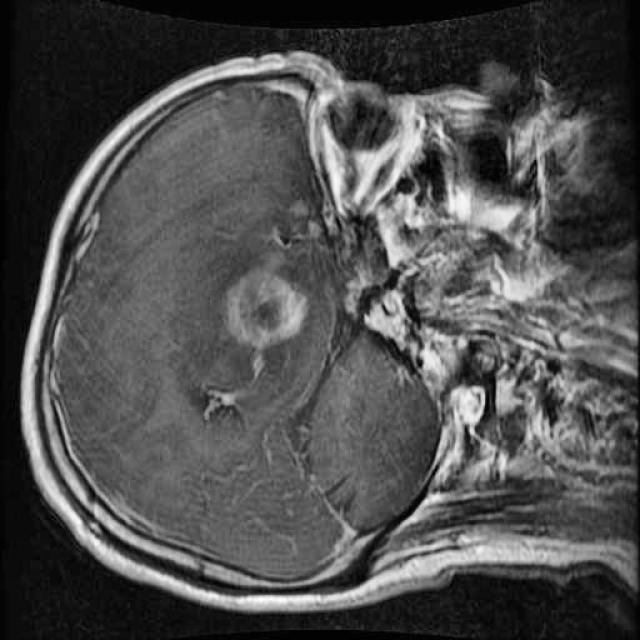Tumor: (174, 243, 335, 442)
